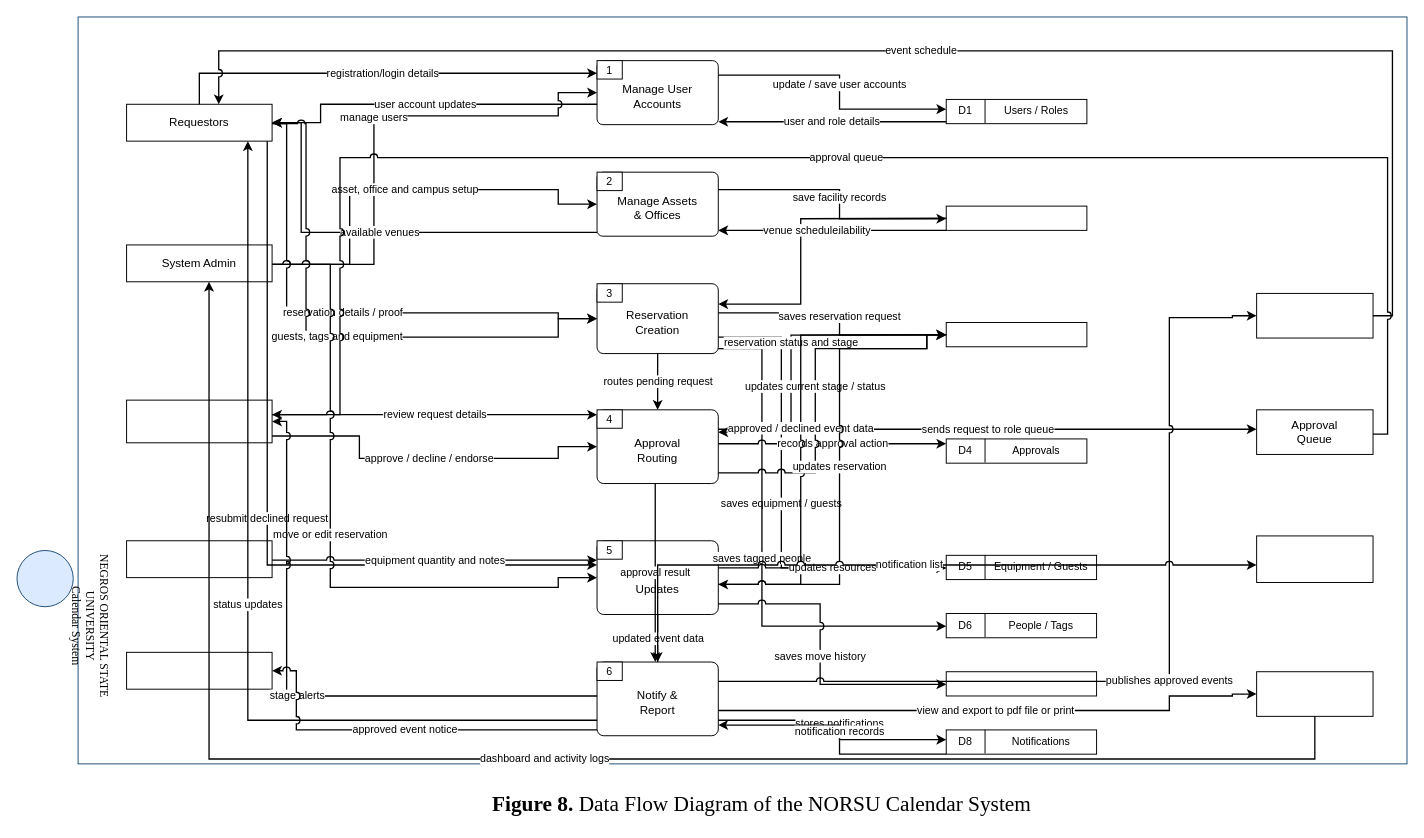
Image size: 1424x838. Some labels were removed from this diagram. Each missing label, with the centre of its shape:
Approvers: [199,421]
Calendar / Event List: [1314,315]
D2 Assets: [1016,217]
D3 Reservations: [1016,334]
D7 Move History: [1021,683]
Multimedia Staff: [199,559]
NORSU: [44,578]
Notification Feed: [1314,558]
Report: [1314,693]
Tagged People: [199,670]
